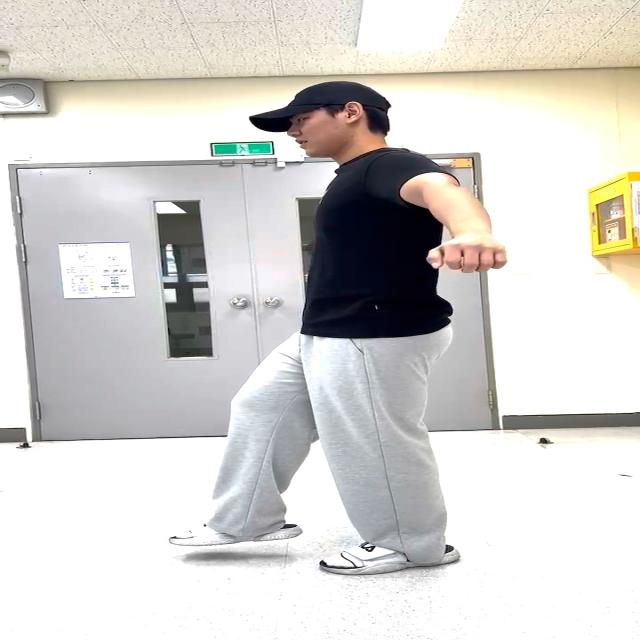leg: (173, 348, 304, 543)
